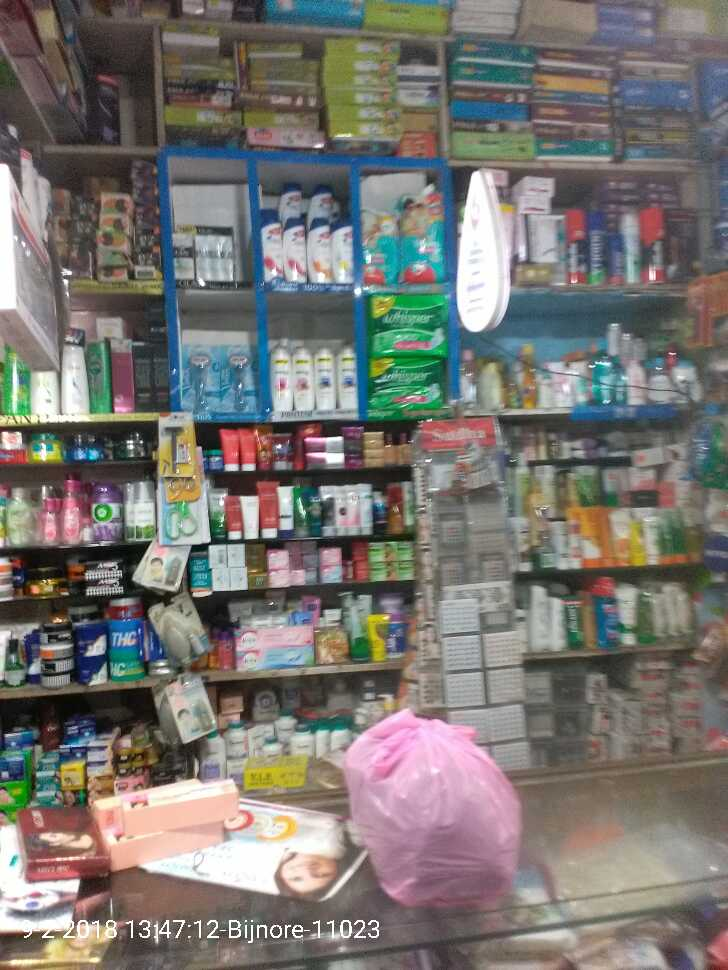gillete: (644, 206, 666, 283), (568, 210, 589, 285)
venus: (187, 348, 222, 409), (222, 346, 254, 409), (625, 212, 641, 284)
